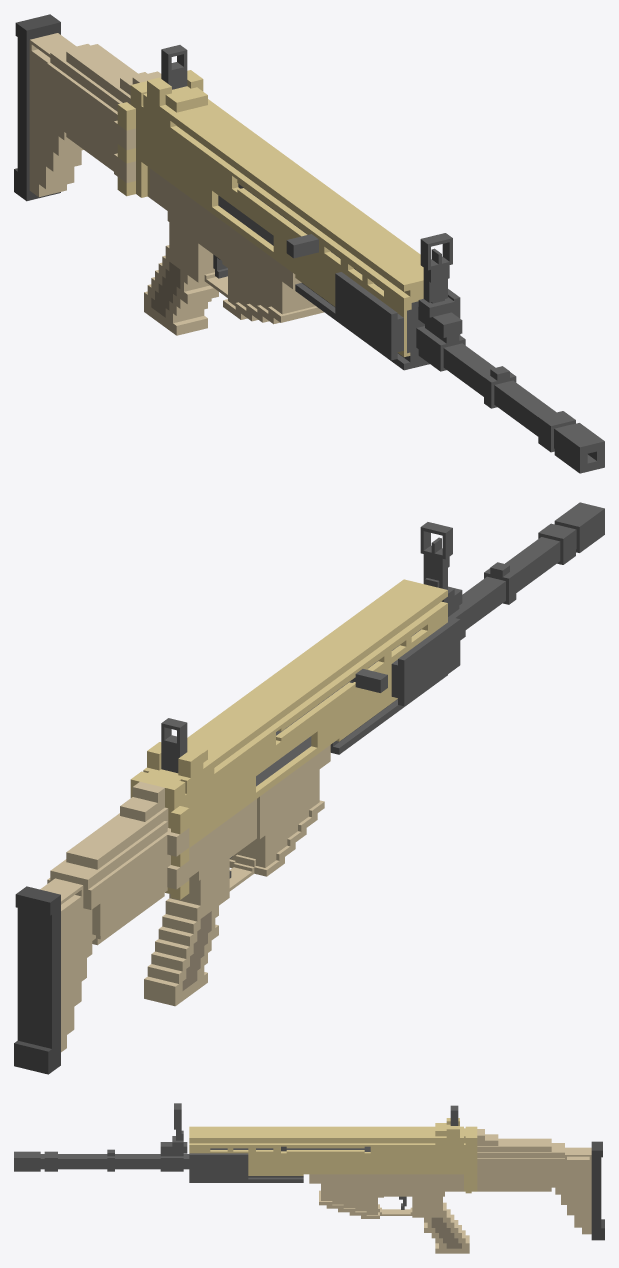
Rendered from heavy_assault_rifle.fbx.
3 views of the same model, one above another, from view 1: azimuth 30°, elevation 25°; view 2: azimuth 150°, elevation 25°; view 3: azimuth 270°, elevation 25° (orthographic). The views are drawn at different scales.
Parts seen in each view (by area): view 1: heavy_assault_rifle_base, heavy_assault_rifle_stockExtention, heavy_assault_rifle_stock, heavy_assault_rifle_frontSight, heavy_assault_rifle_backSight, heavy_assault_rifle_bolt, heavy_assault_rifle_handle; view 2: heavy_assault_rifle_base, heavy_assault_rifle_stockExtention, heavy_assault_rifle_stock, heavy_assault_rifle_frontSight, heavy_assault_rifle_backSight; view 3: heavy_assault_rifle_base, heavy_assault_rifle_stock, heavy_assault_rifle_stockExtention, heavy_assault_rifle_bolt, heavy_assault_rifle_frontSight.
Part boxes in pixels (x1,y1,x2,y2): heavy_assault_rifle_base: [117, 70, 604, 473]; heavy_assault_rifle_stockExtention: [14, 14, 83, 201]; heavy_assault_rifle_stock: [47, 44, 161, 182]; heavy_assault_rifle_frontSight: [420, 233, 452, 302]; heavy_assault_rifle_backSight: [161, 45, 187, 89]; heavy_assault_rifle_bolt: [218, 184, 383, 290]; heavy_assault_rifle_handle: [286, 234, 318, 258]; heavy_assault_rifle_base: [130, 502, 604, 1006]; heavy_assault_rifle_stockExtention: [14, 878, 95, 1074]; heavy_assault_rifle_stock: [47, 781, 189, 945]; heavy_assault_rifle_frontSight: [420, 522, 452, 589]; heavy_assault_rifle_backSight: [161, 718, 187, 773]; heavy_assault_rifle_base: [14, 1118, 477, 1253]; heavy_assault_rifle_stock: [477, 1129, 564, 1191]; heavy_assault_rifle_stockExtention: [551, 1141, 604, 1240]; heavy_assault_rifle_bolt: [210, 1146, 370, 1151]; heavy_assault_rifle_frontSight: [174, 1103, 181, 1140].
Bounding box in the file's own units: 260 × 830 × 3100.
